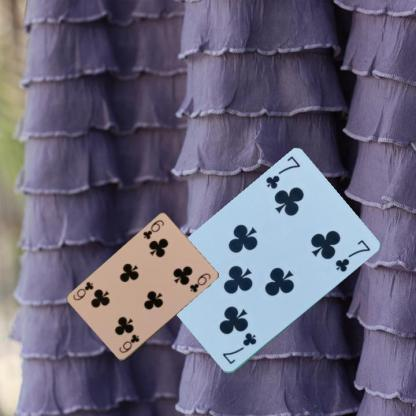6c: (140, 217, 166, 241), (116, 332, 141, 354)
7c: (220, 330, 258, 366), (263, 154, 301, 190)
